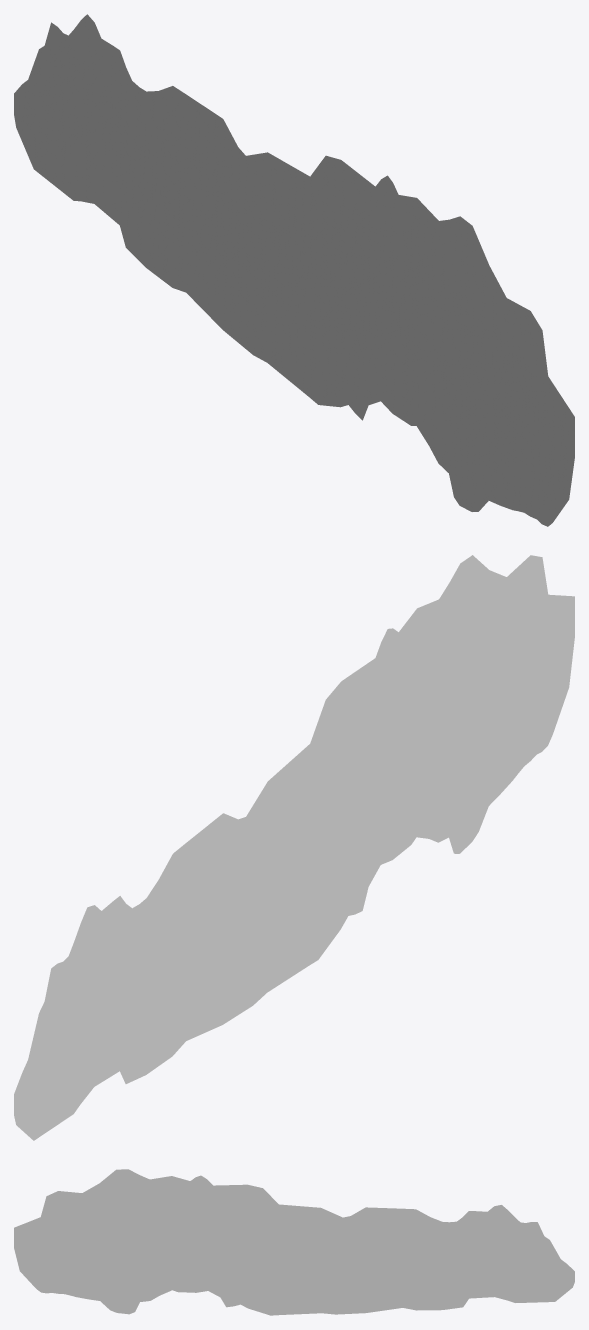
File: Fog.fbx
The picture shows the model from 3 angles, top to bottom: view 1: azimuth 30°, elevation 25°; view 2: azimuth 150°, elevation 25°; view 3: azimuth 270°, elevation 25°; orthographic projection. The views are drawn at different scales.
Parts seen in each view (by area): view 1: Fog_3; view 2: Fog_3; view 3: Fog_3.
Boxes of the visible parts, <box> form: Fog_3: <box>14,14,574,526</box>; Fog_3: <box>14,555,574,1140</box>; Fog_3: <box>14,1169,574,1315</box>.
Bounding box in the file's own units: 7.46e-14 × 5.65 × 19.64.
